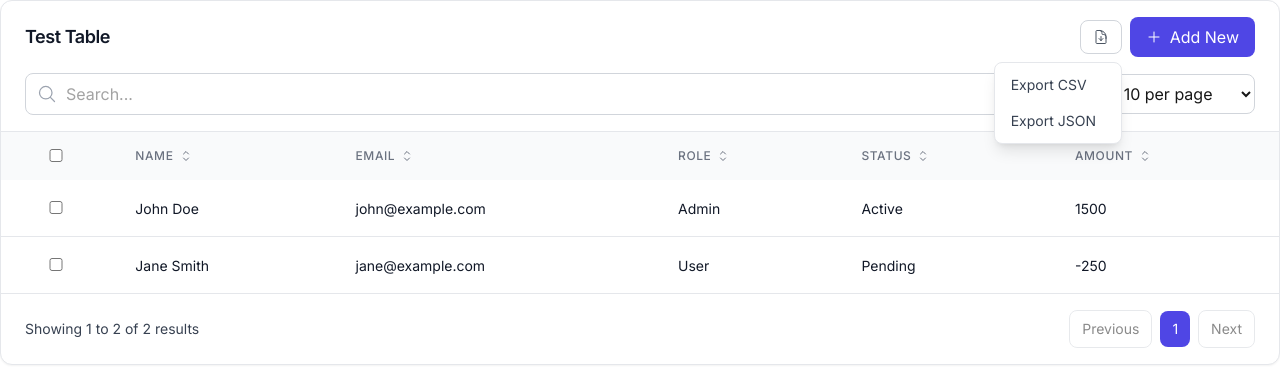
Scenario: AdvancedDataTable › sorts columns when header is clicked
Step 1. Click the text "Name" → [154, 156], box [135, 148, 174, 164]
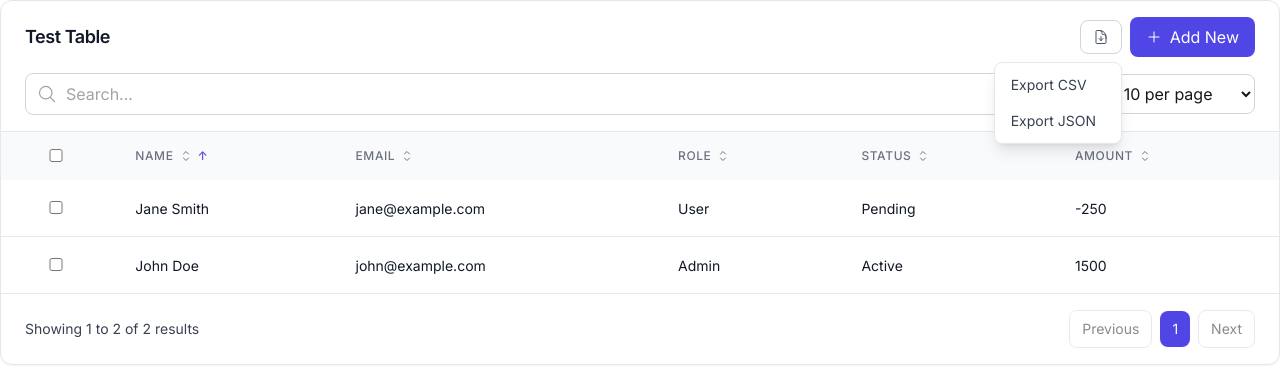
Check: the text "↑" is shown, box [198, 148, 208, 164]
